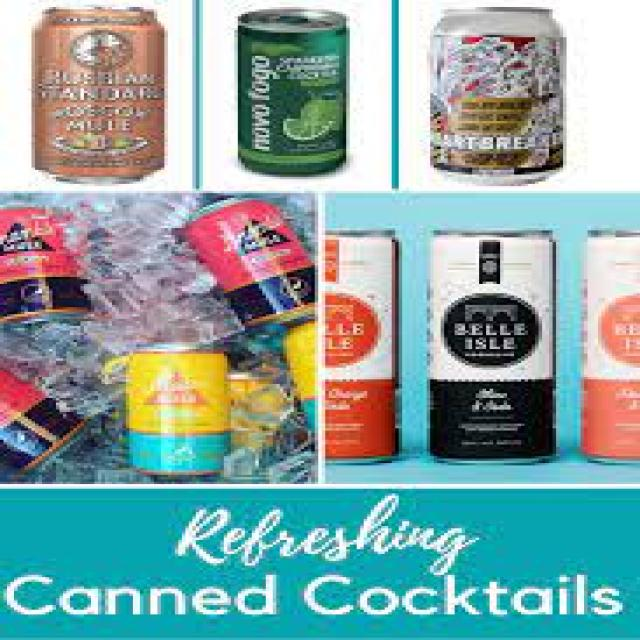Cans: (416, 221, 567, 473), (416, 2, 588, 188), (21, 2, 182, 188), (224, 2, 367, 184), (112, 337, 245, 482)
